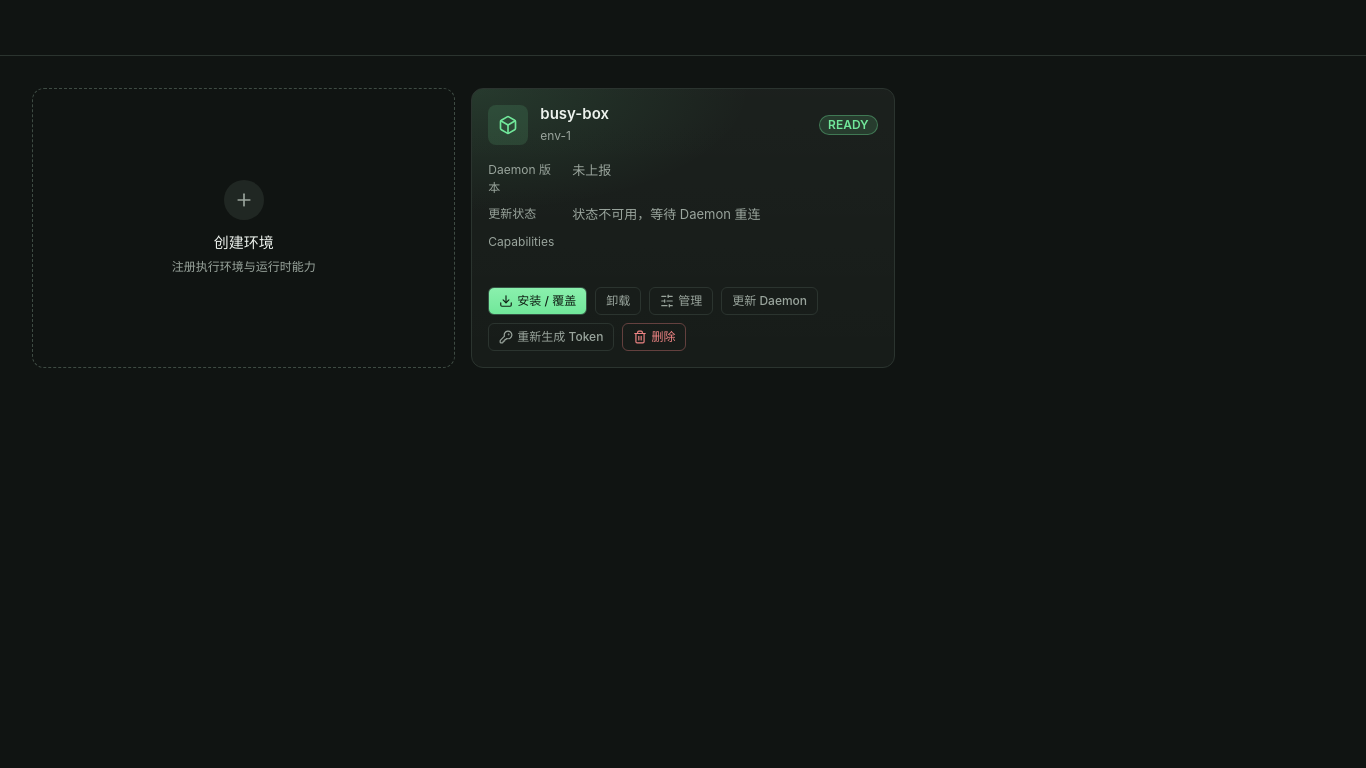
it: EnvironmentsPage › shows visible error on update failure and handles 409 conflict refresh
Click the button with aria-label "更新 Daemon busy-box". click: x=770, y=301
box: [721, 287, 818, 315]
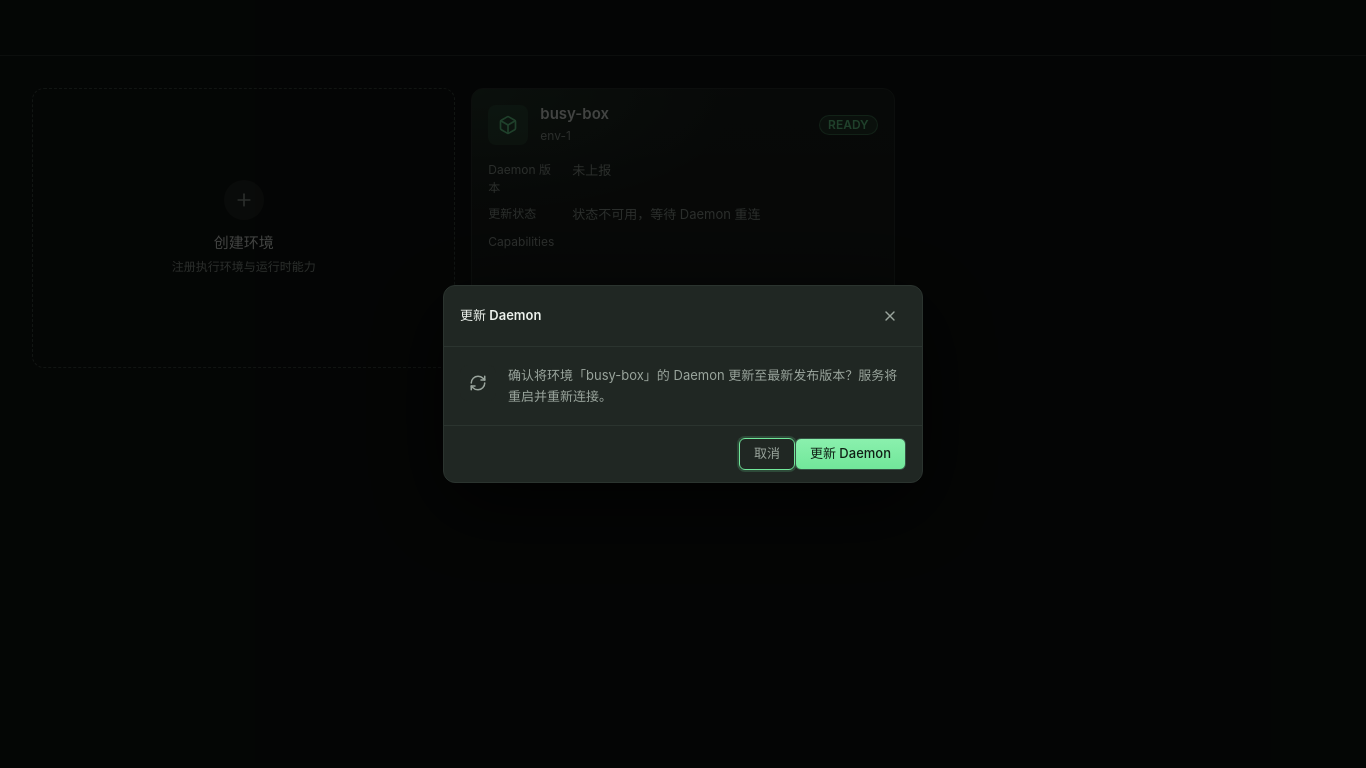
Click the button "更新 Daemon". click: x=850, y=454
box: [795, 438, 906, 470]
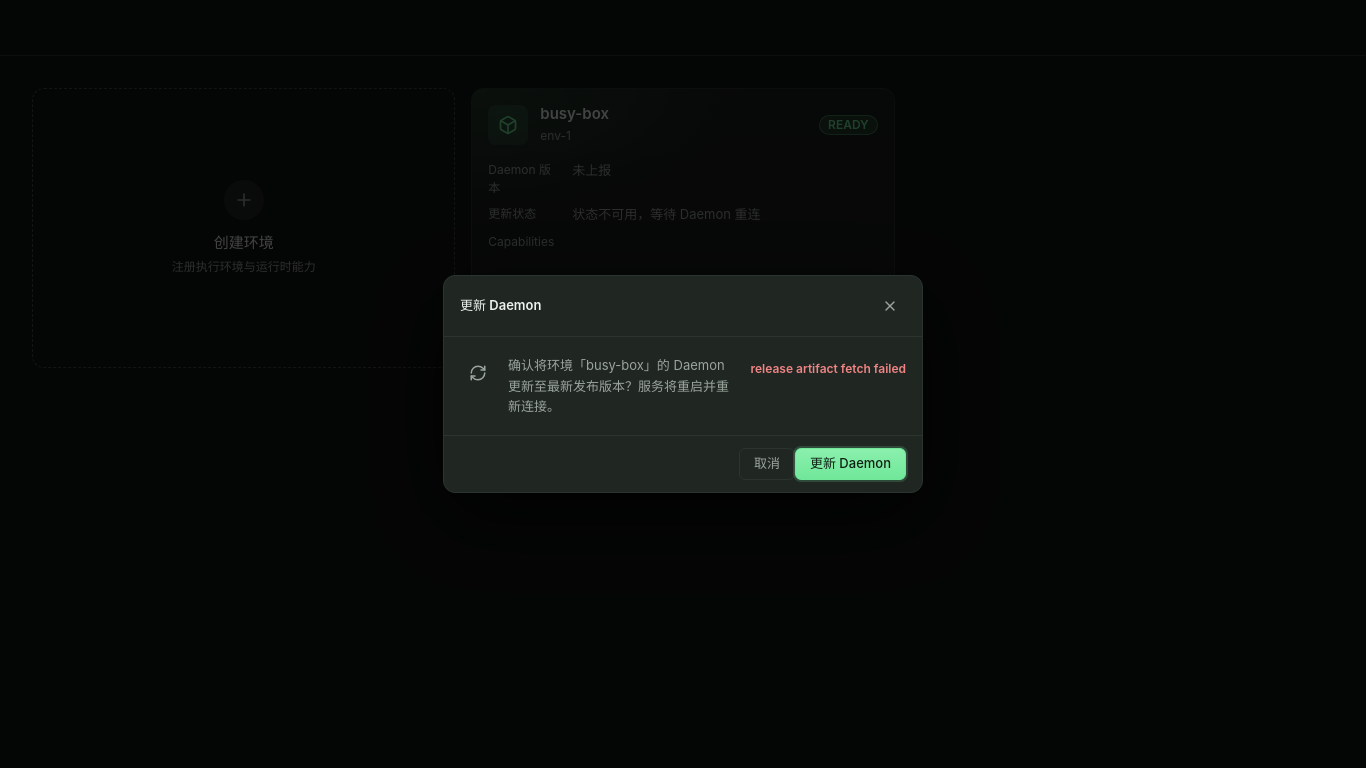
Check: the message reads "release artifact fetch failed", box [750, 361, 906, 376]
Click the button "更新 Daemon". click: x=850, y=464
box: [795, 448, 906, 480]
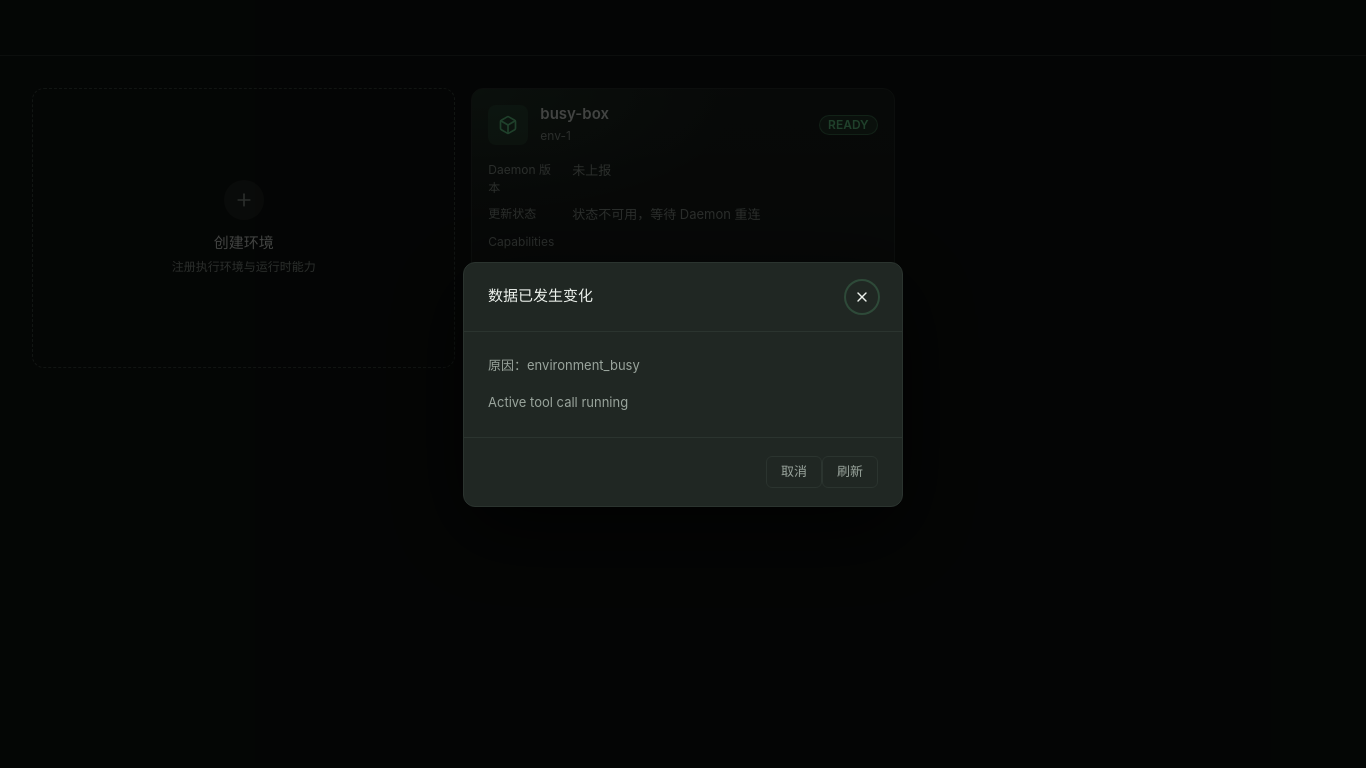
Check: the text "原因：environment_busy" is shown, box [488, 356, 640, 372]
Click the button "刷新". click: x=850, y=472
box: [822, 456, 878, 488]
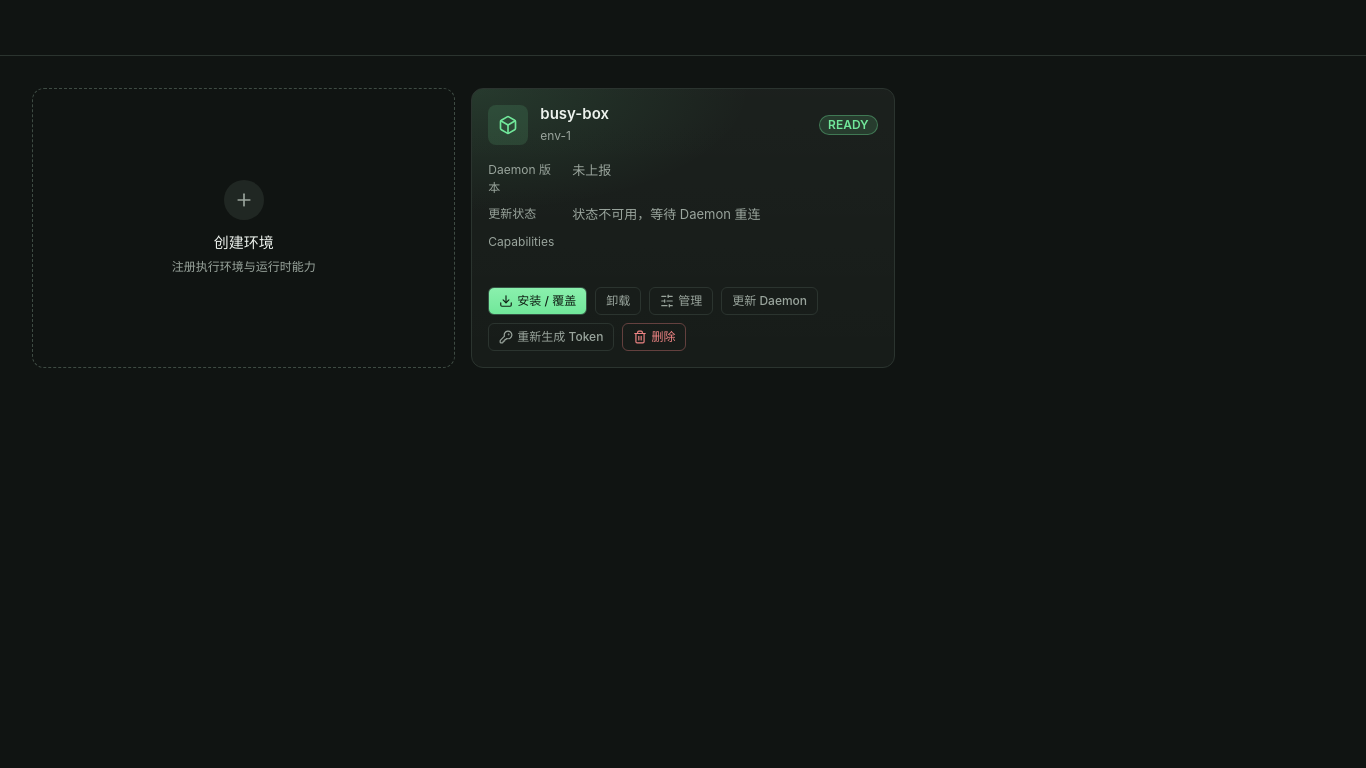
Check: the heading "数据已发生变化" is gone
